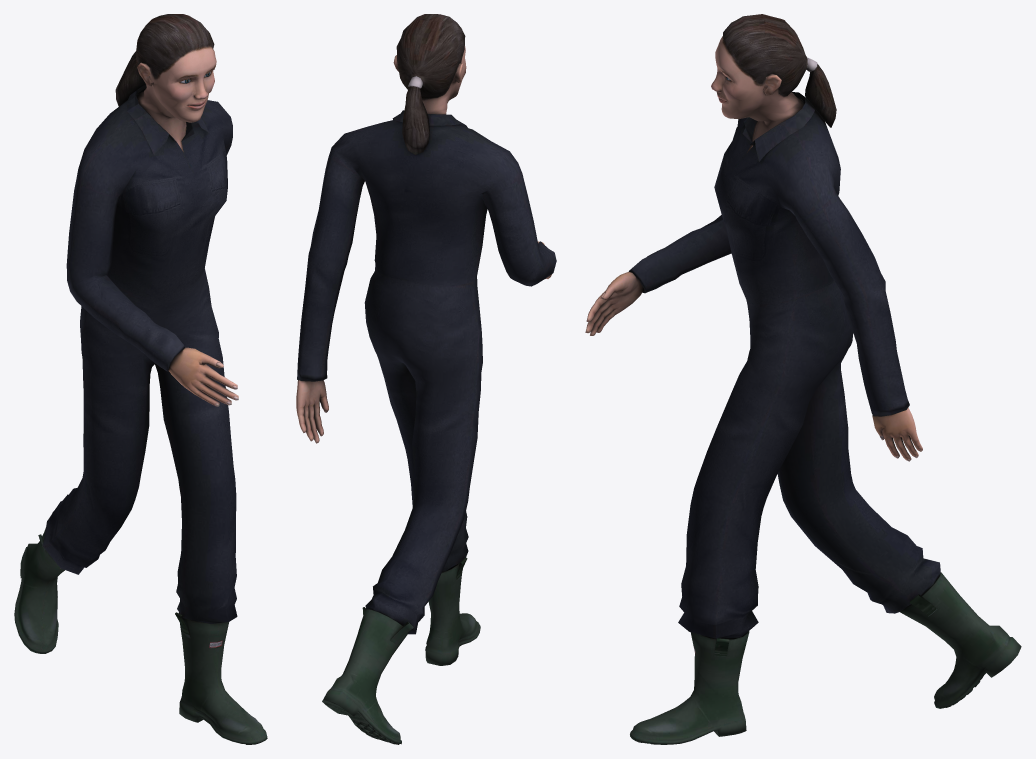
File: SWRK01_09_03.FBX
3 views of the same model, side by side, from view 1: azimuth 30°, elevation 25°; view 2: azimuth 150°, elevation 25°; view 3: azimuth 270°, elevation 25° (orthographic). The views are drawn at different scales.
Visible parts, largest first — view 1: SWRK01_09_03; view 2: SWRK01_09_03; view 3: SWRK01_09_03.
Boxes of the visible parts, x1,y1,x2,y2 form: SWRK01_09_03: (14,14,267,744); SWRK01_09_03: (296,14,556,744); SWRK01_09_03: (585,14,1021,744).
Size of the model in its own units: 19.02 by 66.13 by 36.85.
1 material, 1 textured.
